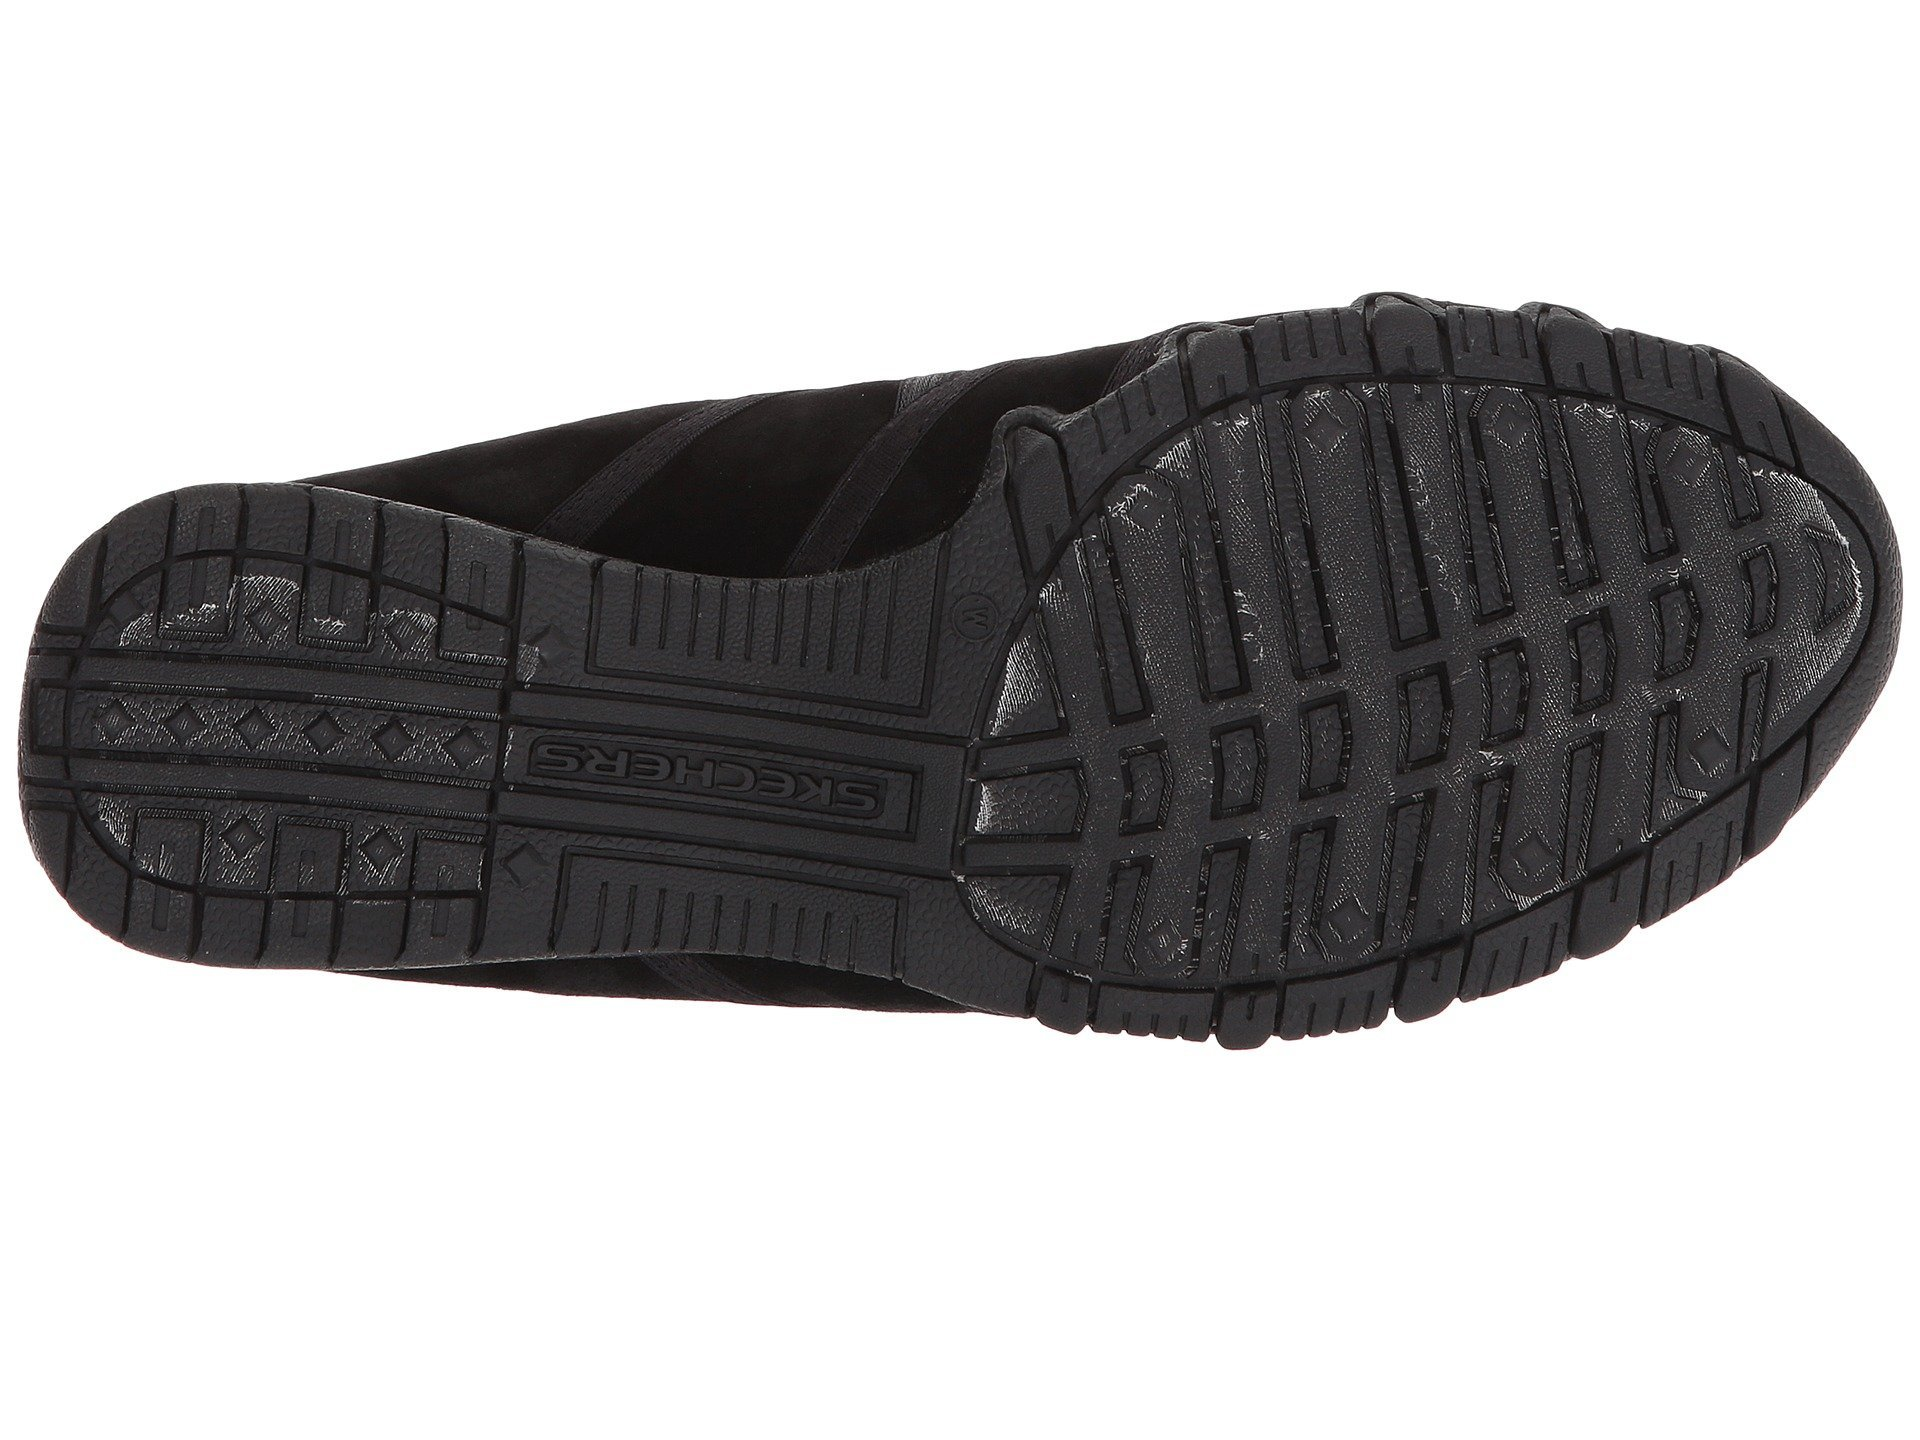line: (1120, 352, 1757, 911), (122, 538, 352, 867)
quad: (1120, 352, 1757, 911), (497, 684, 940, 864), (122, 538, 352, 867)
text: (497, 684, 940, 864)
